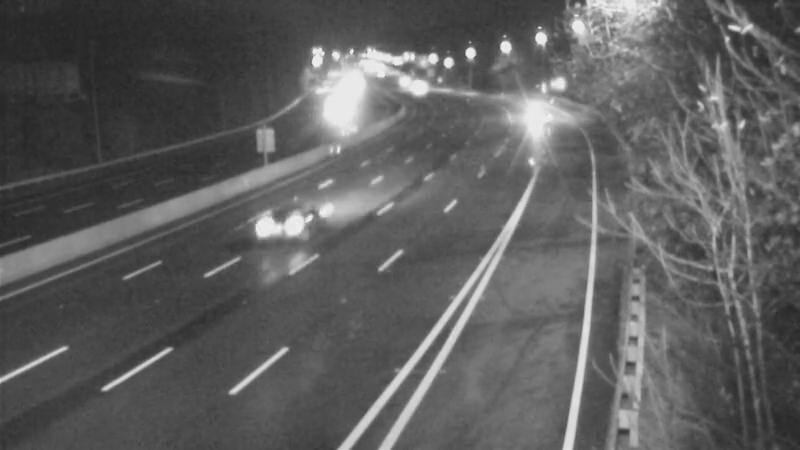vehicle: (252, 191, 332, 271), (392, 63, 442, 113), (513, 92, 563, 142)
